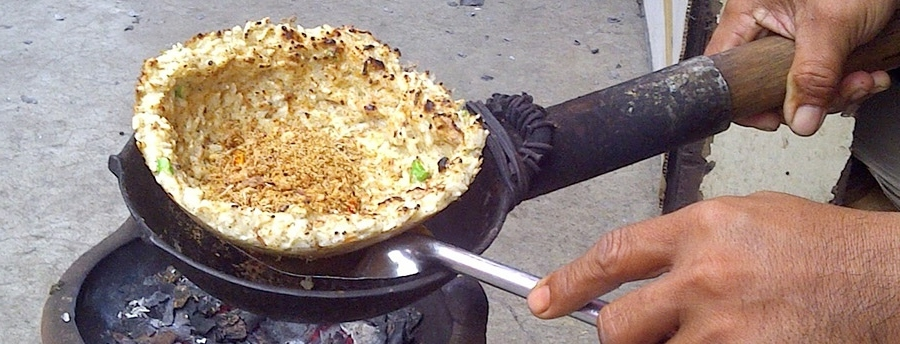kerak_telor: (133, 20, 492, 257)
